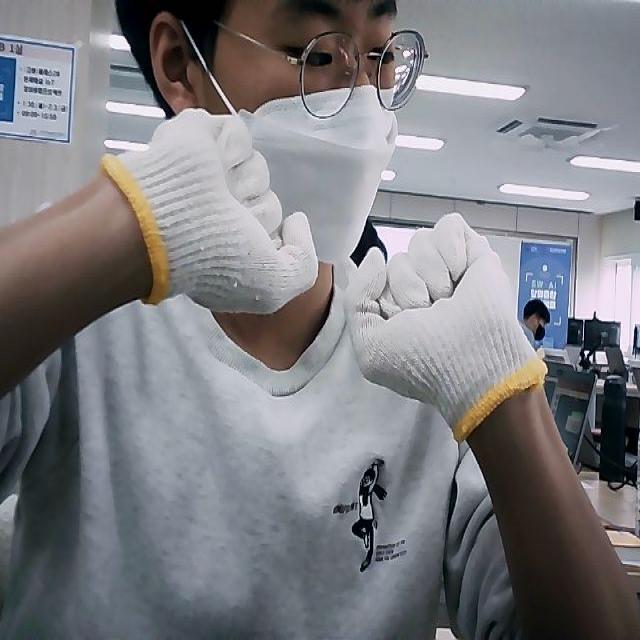gloves: (103, 106, 318, 314), (353, 212, 548, 440)
